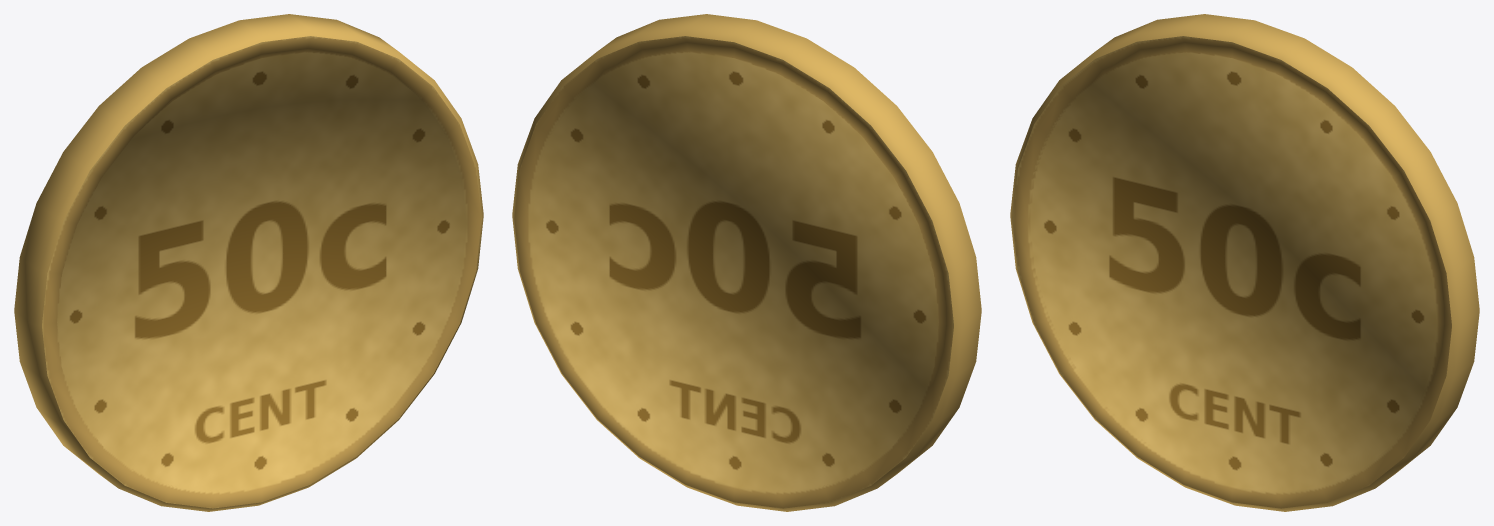
The model's file is Coin_50Cent.obj.
3 views of the same model, side by side, from view 1: azimuth 30°, elevation 25°; view 2: azimuth 150°, elevation 25°; view 3: azimuth 330°, elevation 25° (orthographic).
Size of the model in its own units: 0.0243 by 0.0243 by 0.00238.
2 materials, 1 textured.
